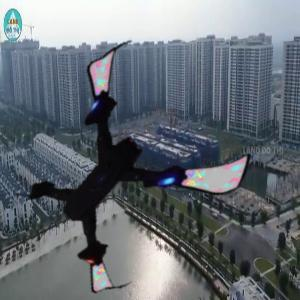drone: (12, 53, 229, 270)
